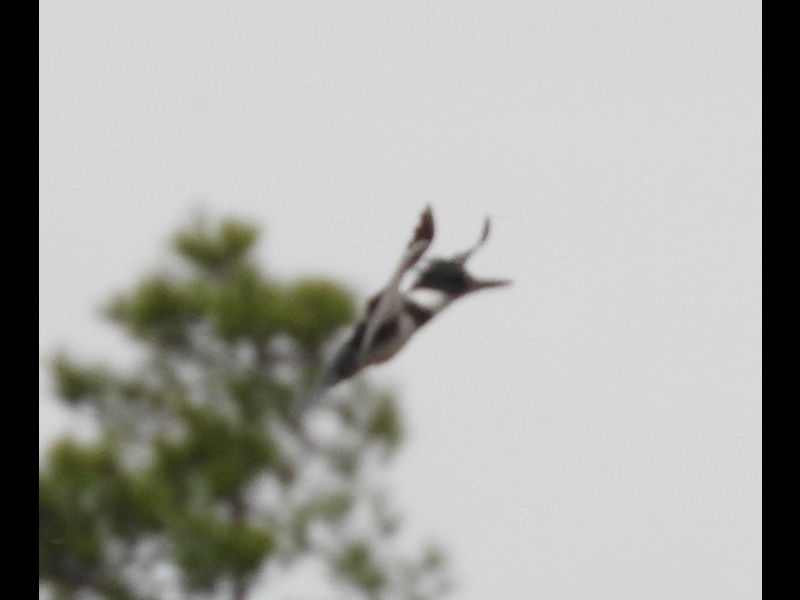kingfisher: (316, 202, 512, 390)
